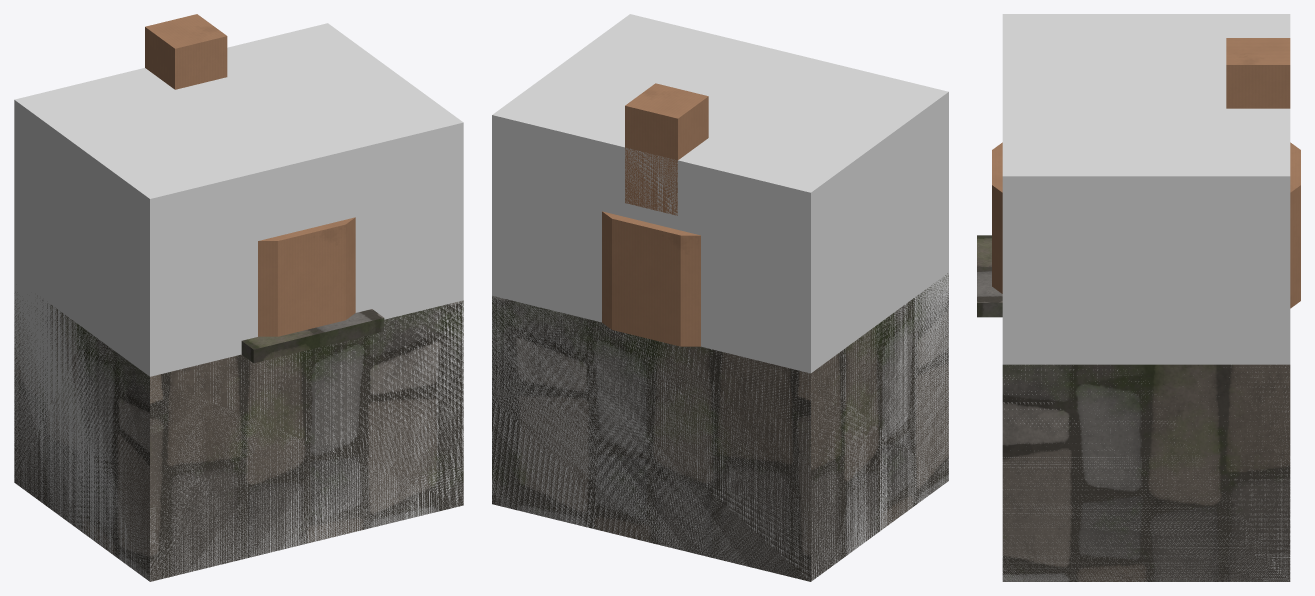
Rendered from oven.glb.
3 renders of one model, left to right at view 1: azimuth 30°, elevation 25°; view 2: azimuth 150°, elevation 25°; view 3: azimuth 270°, elevation 25°, orthographic. The views are drawn at different scales.
Visible parts, largest first — view 1: COL_HULL_oven, oven; view 2: COL_HULL_oven, oven; view 3: COL_HULL_oven, oven.
Part boxes in pixels (bbox=[...]): COL_HULL_oven: bbox=[14, 23, 463, 581]; oven: bbox=[14, 14, 463, 581]; COL_HULL_oven: bbox=[492, 14, 948, 580]; oven: bbox=[492, 83, 948, 581]; COL_HULL_oven: bbox=[1002, 14, 1290, 581]; oven: bbox=[977, 38, 1300, 581].
Size of the model in its own units: 1.2 by 1.55 by 1.01.
4 materials, 4 textured.
